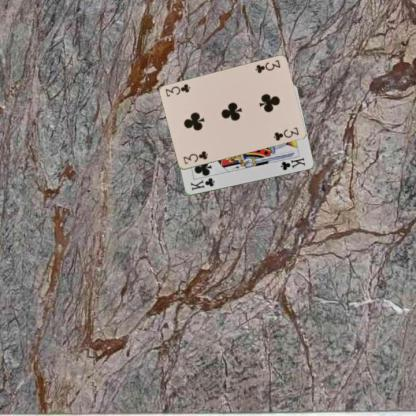3c: (180, 148, 209, 166), (252, 57, 282, 74)
Kc: (188, 176, 216, 192)
